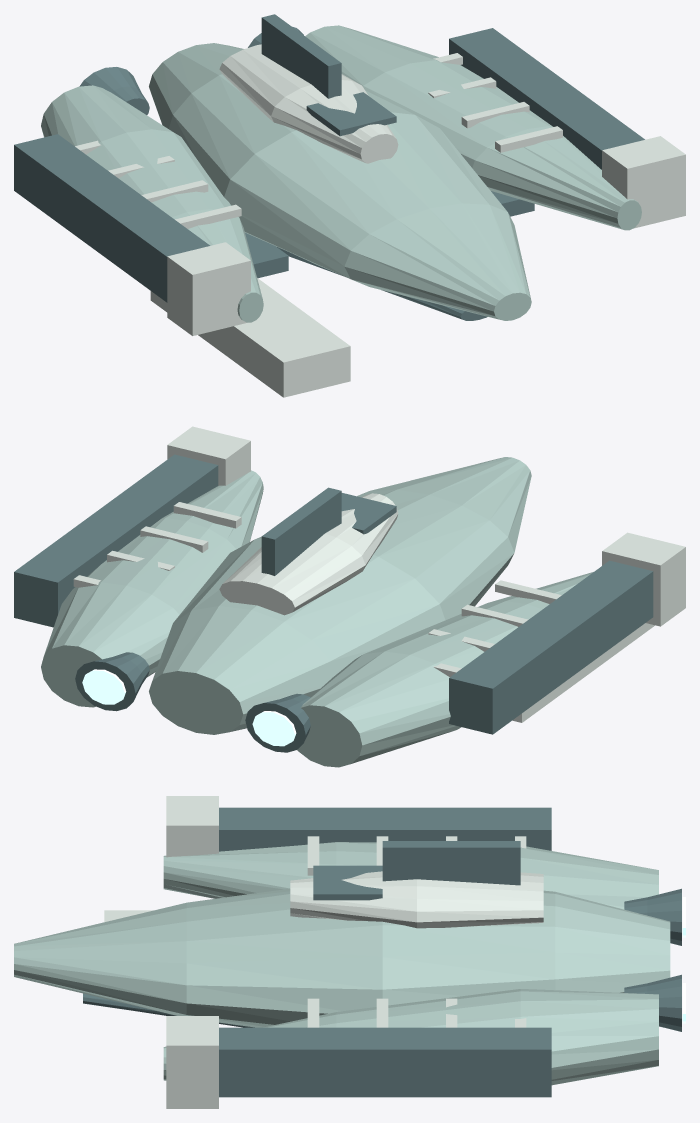
The picture shows the model from 3 angles, top to bottom: view 1: azimuth 30°, elevation 25°; view 2: azimuth 150°, elevation 25°; view 3: azimuth 270°, elevation 25°; orthographic projection. The views are drawn at different scales.
Bounding box in the file's own units: 13.49 × 4.95 × 15.36.
